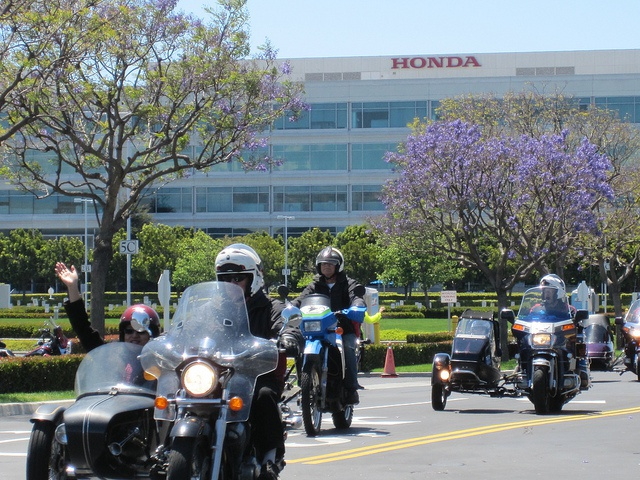non-vehicle: (139, 281, 278, 474), (25, 308, 158, 477), (278, 282, 369, 440), (506, 287, 587, 410), (431, 315, 507, 409), (622, 295, 640, 379), (43, 343, 54, 355)
